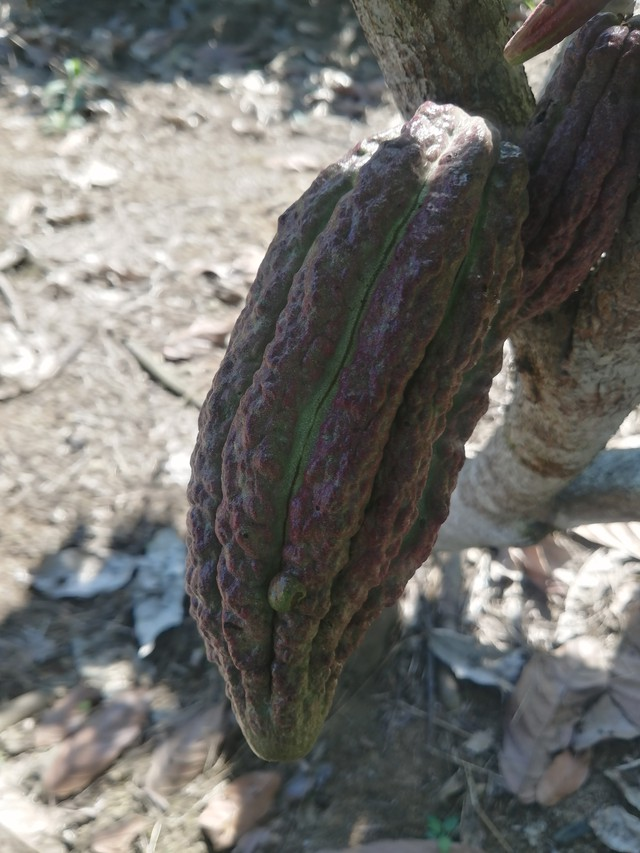Health: (149, 87, 538, 780), (481, 7, 640, 353)
